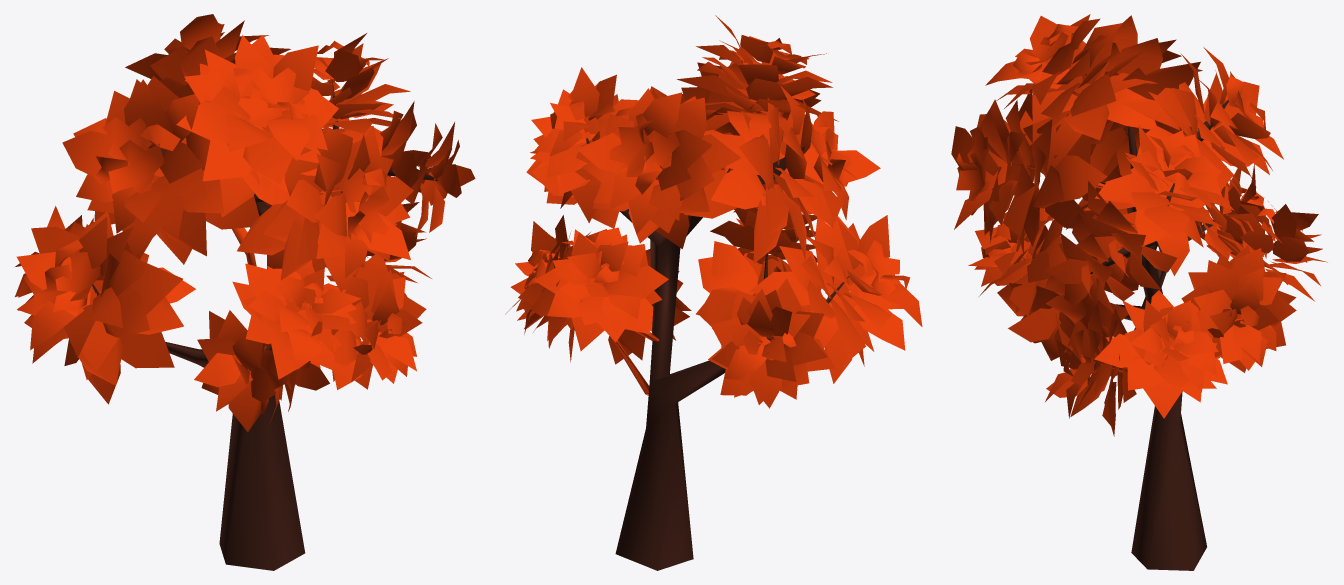
The model's file is Albero_3.fbx.
3 renders of one model, left to right at view 1: azimuth 30°, elevation 25°; view 2: azimuth 150°, elevation 25°; view 3: azimuth 270°, elevation 25°, orthographic. The views are drawn at different scales.
Visible parts, largest first — view 1: Albero.003; view 2: Albero.003; view 3: Albero.003.
Part boxes in pixels (left/top/right/bottom): Albero.003: left=15, top=14, right=475, bottom=570; Albero.003: left=505, top=15, right=922, bottom=570; Albero.003: left=951, top=14, right=1327, bottom=570.
Bounding box in the file's own units: 3803 × 4679 × 3129.
